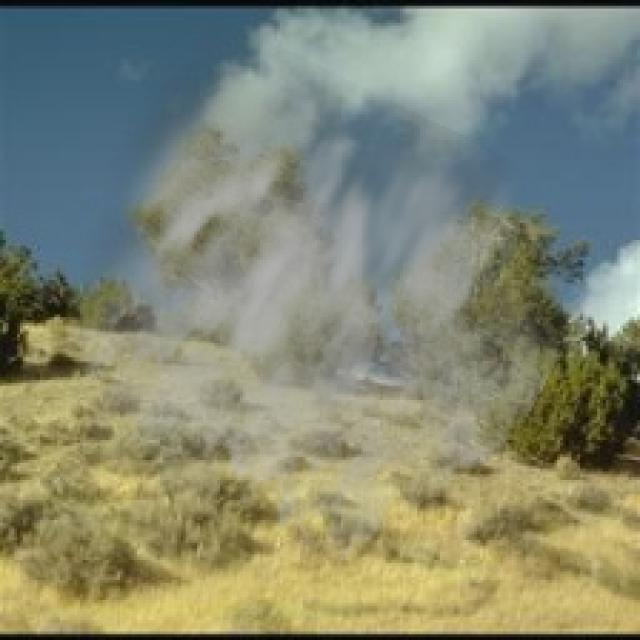smoke: (43, 17, 588, 569)
